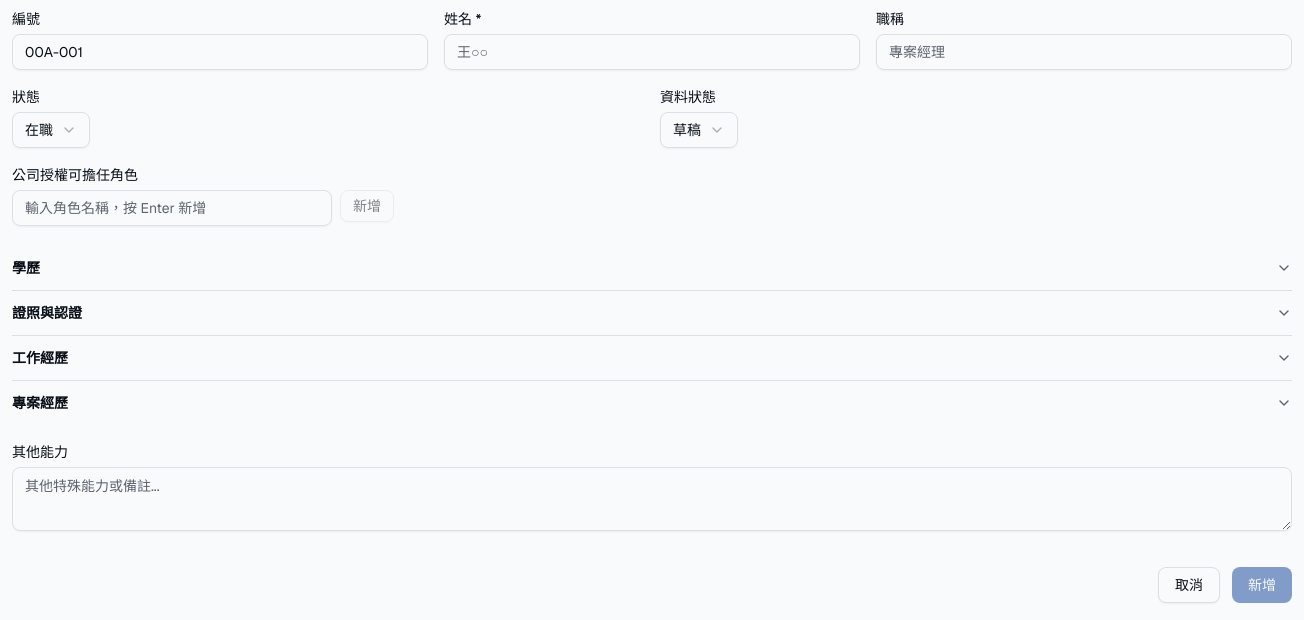
Test: EntryEditor00A — 基本渲染 › 輸入姓名後儲存按鈕可用
In the field with placeholder "王○○": (652, 52) [444, 34, 860, 70], type "張三"
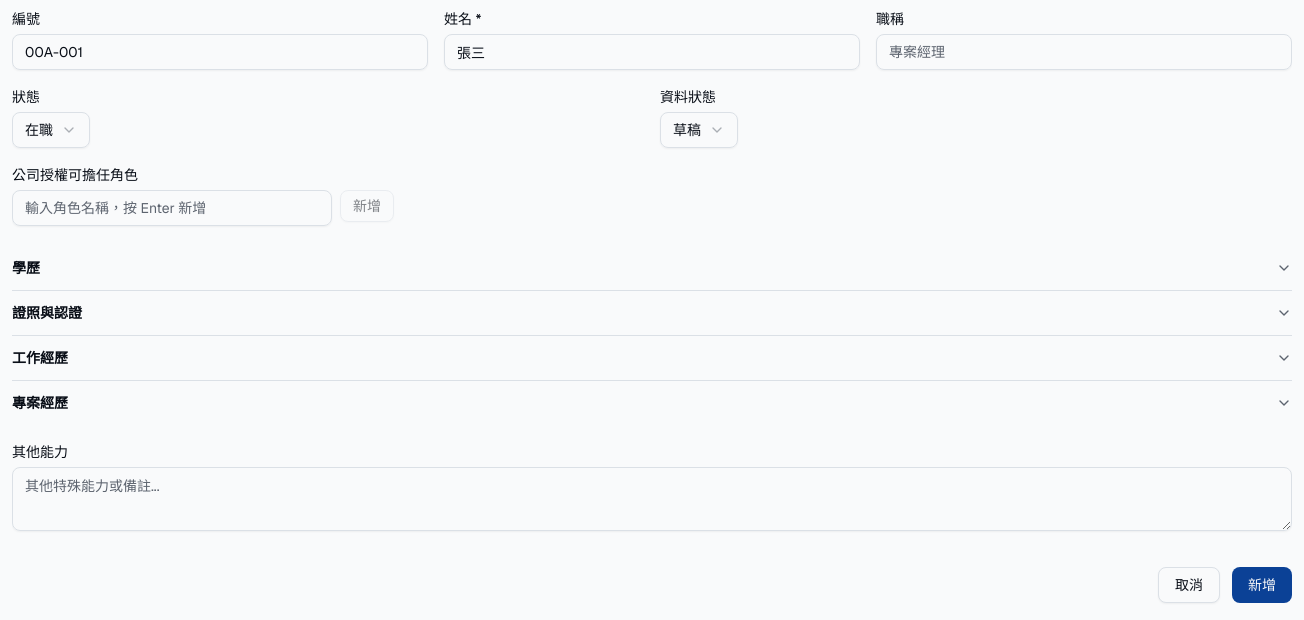
Expected: the 2nd button "新增" is enabled, [1232, 567, 1292, 603]
